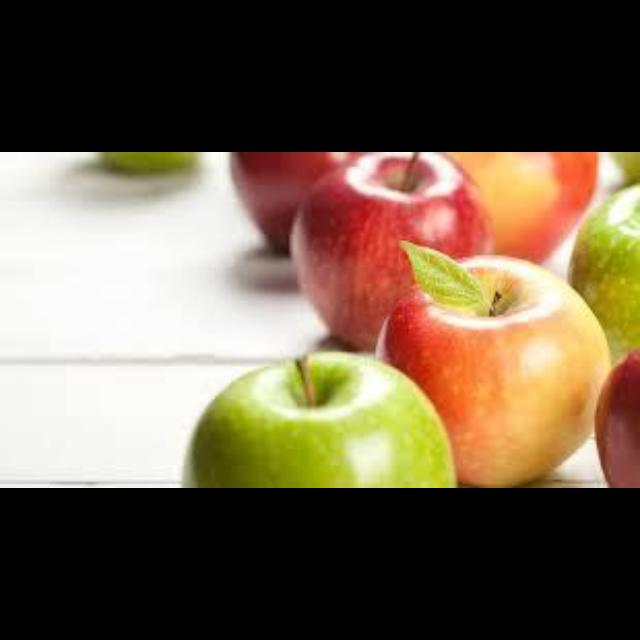apple: (378, 241, 609, 484), (289, 152, 491, 348), (184, 352, 456, 486), (446, 152, 597, 259), (229, 152, 361, 251), (568, 185, 638, 361), (595, 350, 638, 486), (99, 152, 198, 173)
